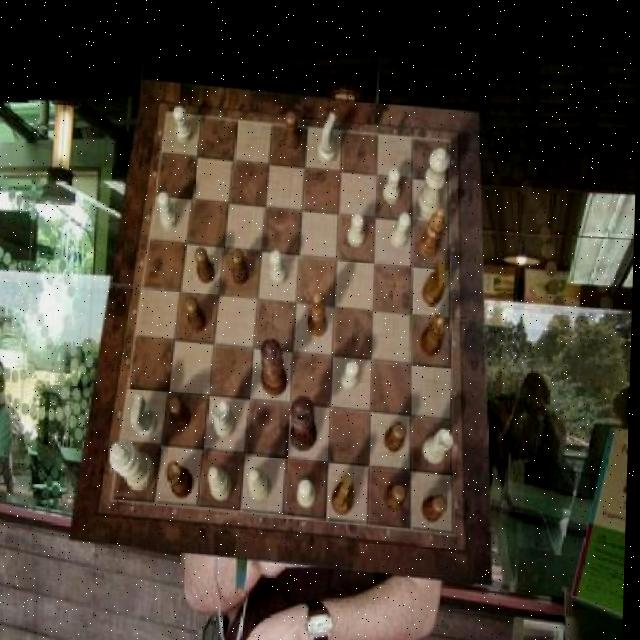bishop: (421, 198, 448, 254), (310, 287, 331, 334)
black-bishop: (293, 391, 322, 448)
black-king: (424, 254, 450, 301), (335, 470, 358, 511)
black-knight: (170, 395, 194, 428), (197, 245, 218, 282), (186, 294, 208, 329), (385, 417, 408, 449), (284, 107, 302, 146), (425, 490, 450, 518), (232, 247, 251, 283), (387, 479, 410, 507)
black-pawn: (262, 334, 291, 393)
black-queen: (423, 308, 450, 352), (169, 458, 197, 496)
black-rook: (210, 463, 235, 498), (250, 463, 275, 498)
white-bishop: (112, 437, 158, 488)
white-king: (133, 391, 162, 435), (318, 109, 337, 162)
white-knight: (158, 189, 179, 229), (174, 103, 195, 142), (392, 206, 413, 243), (271, 245, 289, 282), (349, 207, 367, 243), (383, 163, 401, 199), (342, 356, 362, 386), (300, 474, 319, 504)
white-pawn: (417, 141, 451, 215)
white-queen: (425, 422, 456, 459), (215, 397, 240, 436)
